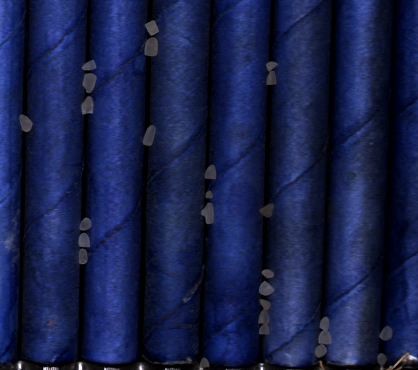broken_grain: (80, 71, 98, 96), (142, 123, 159, 149), (200, 201, 217, 227), (16, 112, 34, 135), (144, 36, 161, 59), (257, 280, 277, 298), (377, 324, 395, 343), (144, 19, 161, 38), (81, 95, 96, 116), (203, 164, 219, 183), (257, 308, 272, 328), (77, 248, 90, 269), (76, 232, 92, 249), (318, 330, 335, 346), (79, 215, 93, 233), (265, 71, 279, 88), (261, 266, 276, 281), (257, 323, 271, 338), (313, 344, 328, 358), (79, 59, 96, 71), (319, 315, 330, 333), (204, 188, 216, 200), (265, 60, 278, 71)
yellow_grain: (259, 203, 279, 224), (256, 297, 273, 311)
